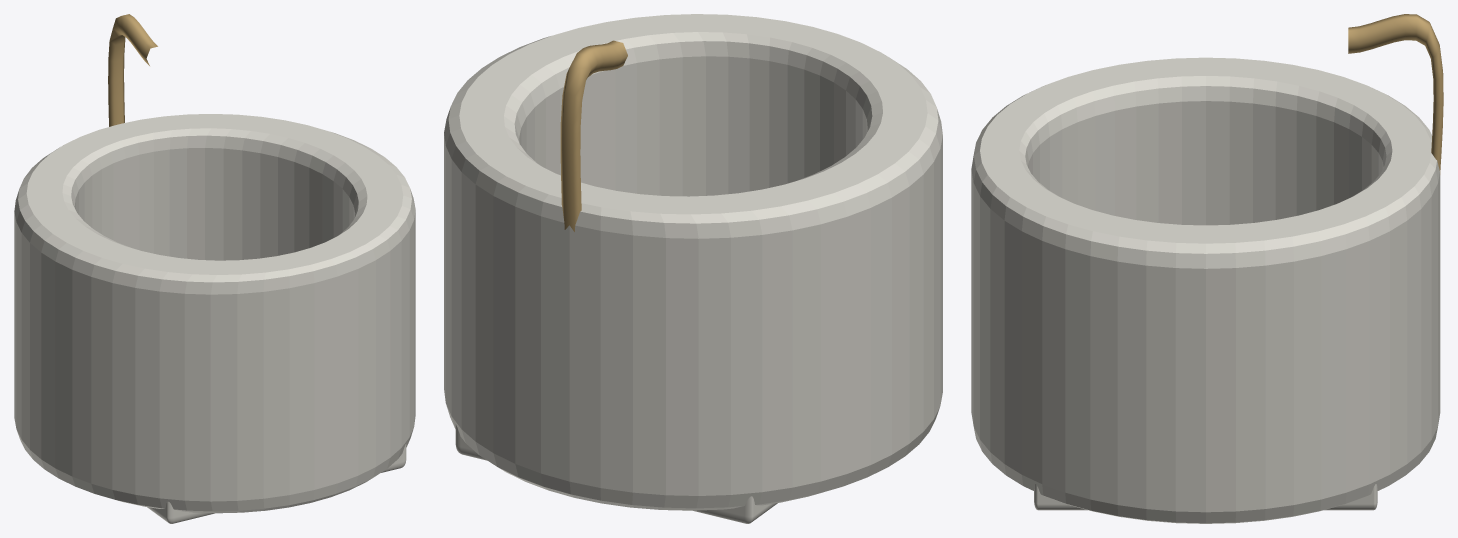
The model's file is bath-10-2.glb.
3 views of the same model, side by side, from view 1: azimuth 30°, elevation 25°; view 2: azimuth 150°, elevation 25°; view 3: azimuth 270°, elevation 25° (orthographic). The views are drawn at different scales.
Visible parts, largest first — view 1: part (×2); view 2: part (×2); view 3: part (×2).
Part boxes in pixels (x1,y1,x2,y2): part (×2): (14,14,415,523); part (×2): (444,14,942,523); part (×2): (971,14,1443,523).
Bounding box in the file's own units: 1 × 1 × 1.
